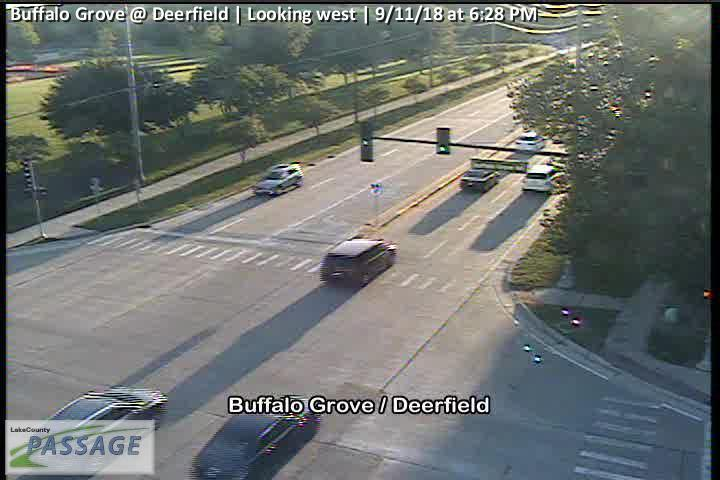SUV: (324, 234, 399, 287)
Sedan: (4, 385, 168, 477), (188, 392, 324, 480), (519, 156, 564, 193), (253, 162, 303, 195), (460, 158, 505, 192)
